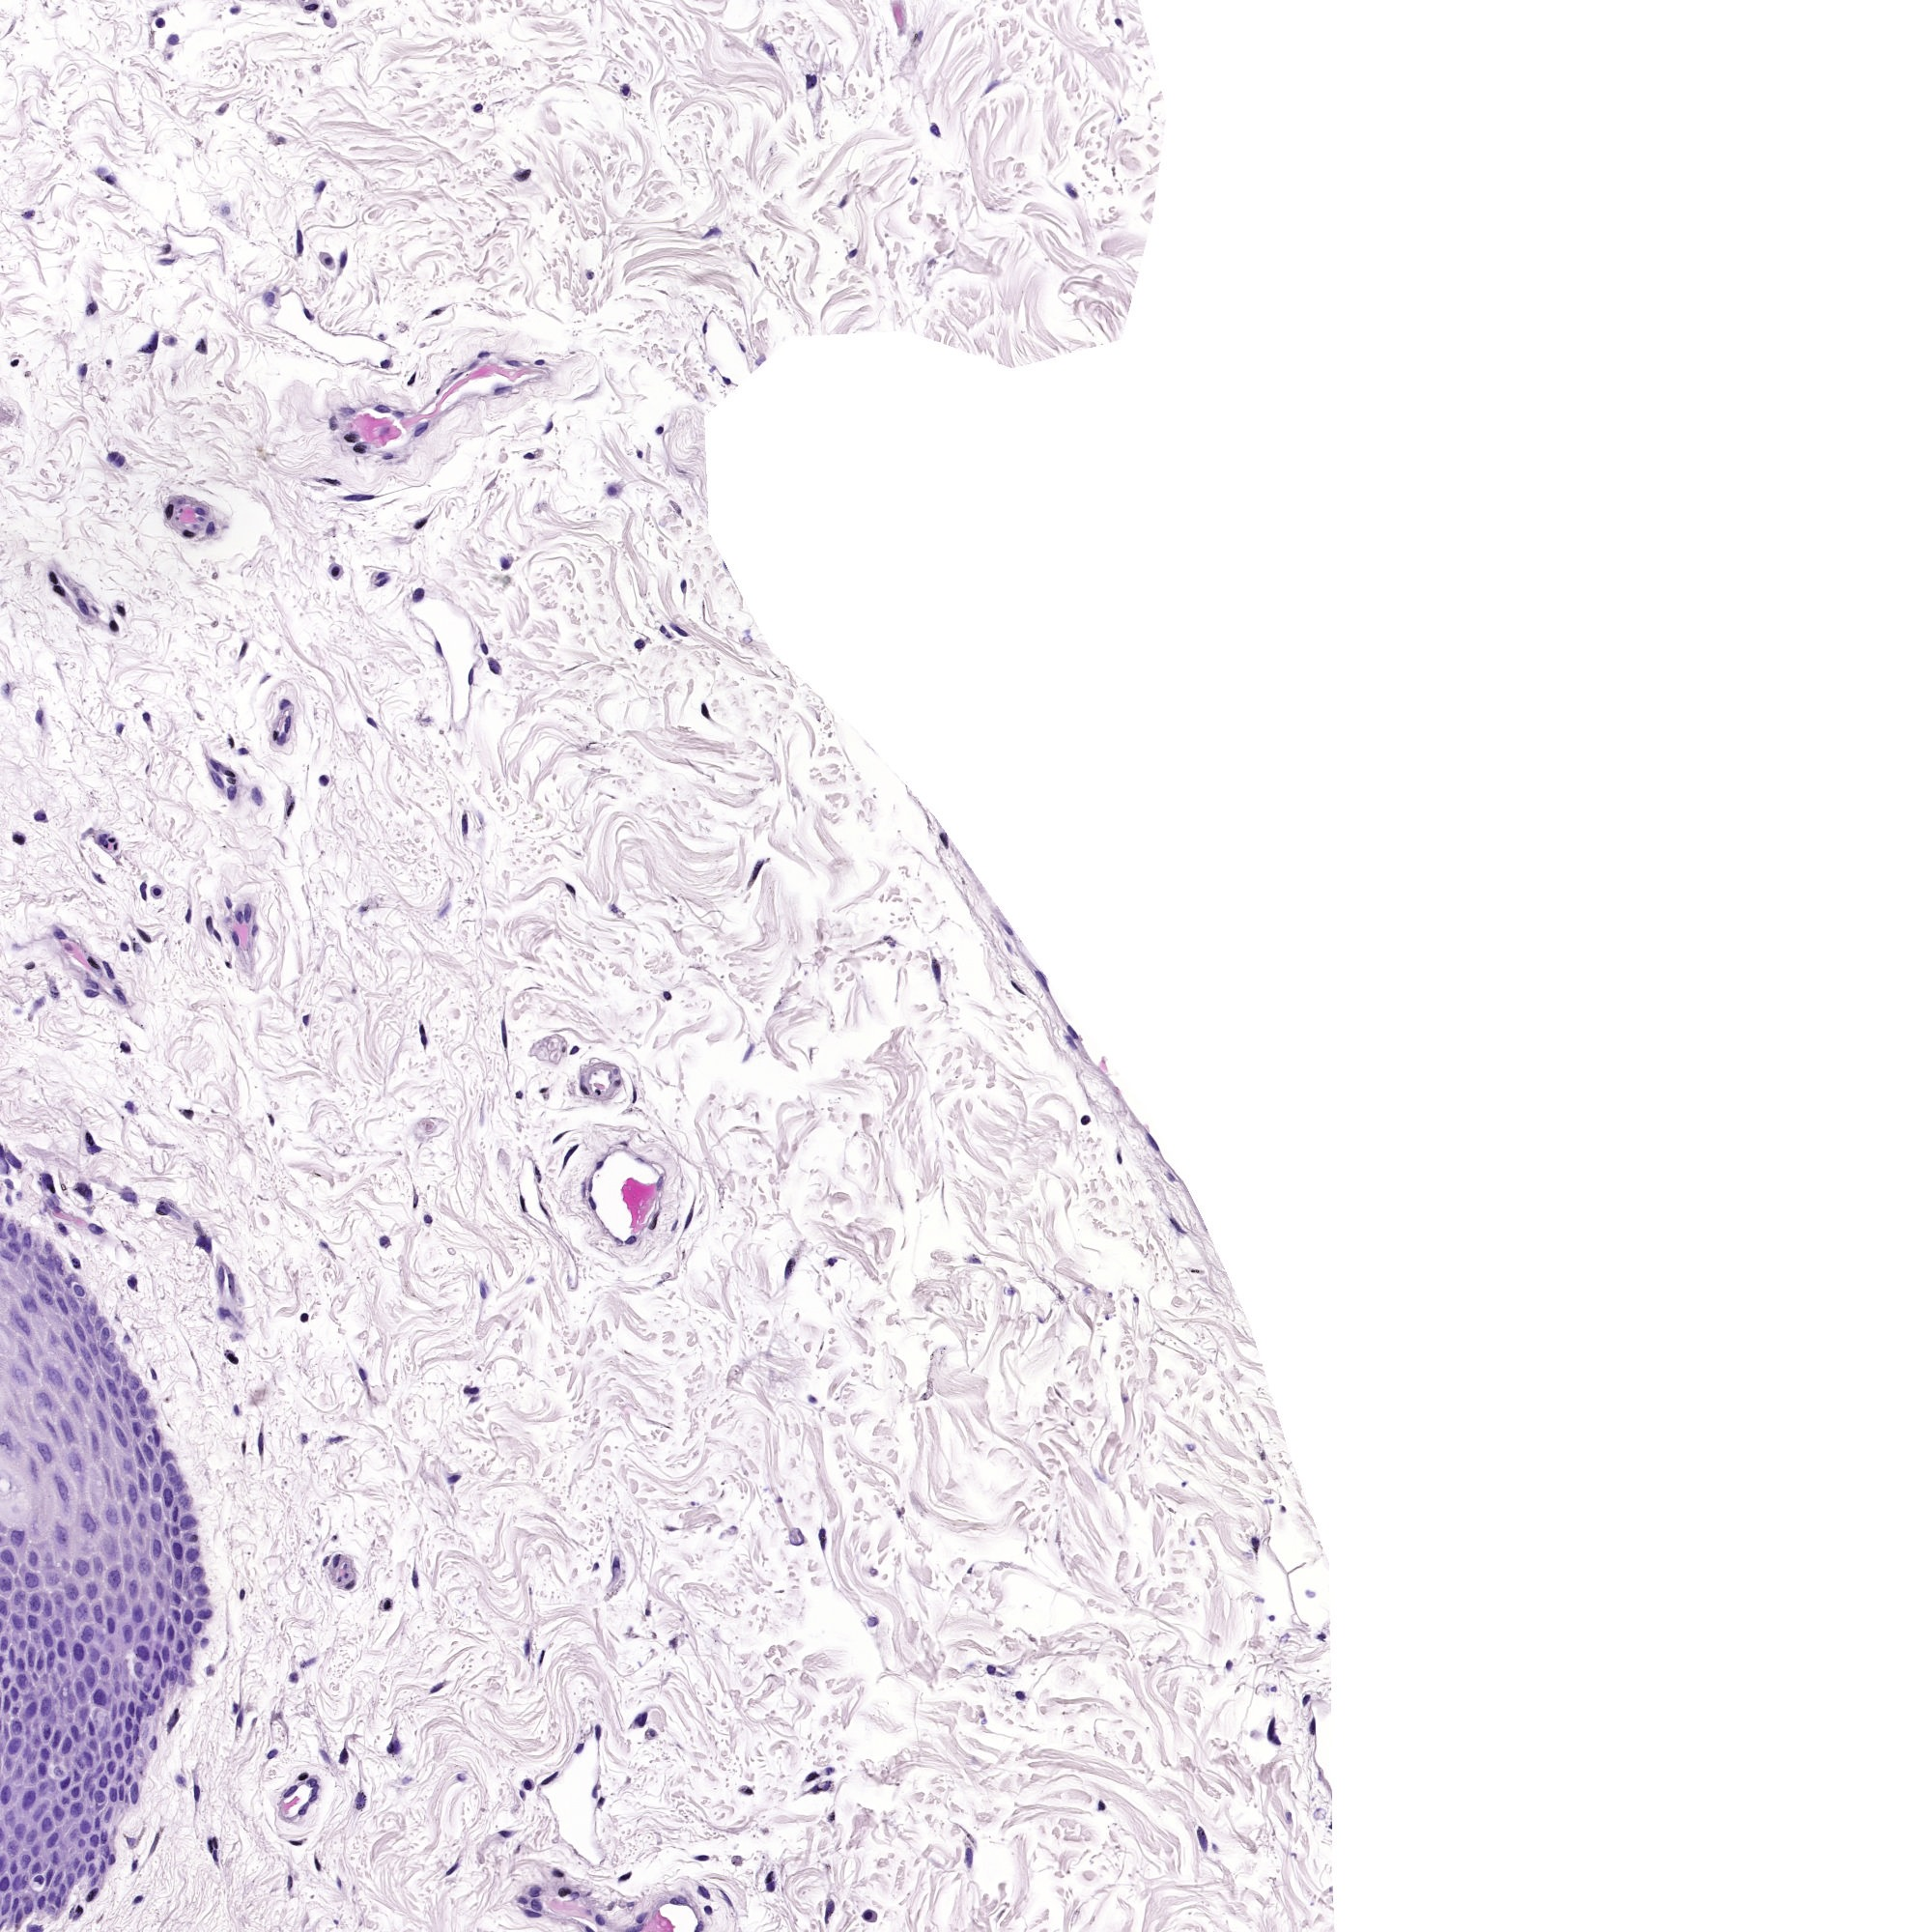epithelial: (186, 1520, 193, 1525), (175, 1548, 180, 1555), (120, 1433, 124, 1442), (18, 1373, 23, 1378), (85, 1522, 90, 1527), (4, 1582, 9, 1587), (97, 1792, 101, 1799), (11, 1230, 14, 1235), (104, 1332, 108, 1338), (108, 1352, 111, 1357), (200, 1589, 205, 1592), (156, 1656, 159, 1661), (5, 1254, 9, 1258), (44, 1297, 48, 1300), (28, 1304, 32, 1307), (87, 1352, 88, 1359), (92, 1348, 96, 1352), (110, 1387, 113, 1391), (80, 1384, 81, 1391), (55, 1378, 58, 1382), (67, 1426, 69, 1433), (101, 1419, 104, 1422), (147, 1451, 150, 1454), (73, 1461, 76, 1465), (16, 1537, 19, 1541), (81, 1566, 85, 1569), (30, 1580, 34, 1583), (111, 1578, 115, 1582), (48, 1635, 50, 1642), (19, 1663, 23, 1667), (78, 1647, 80, 1654), (88, 1675, 92, 1679), (81, 1690, 83, 1697), (119, 1748, 120, 1755), (44, 1279, 46, 1284), (73, 1302, 74, 1307), (44, 1398, 46, 1403), (136, 1426, 138, 1431), (157, 1437, 159, 1442), (140, 1458, 142, 1463), (62, 1488, 64, 1493), (142, 1481, 143, 1486), (111, 1514, 113, 1520), (156, 1511, 157, 1516), (142, 1518, 143, 1523), (60, 1532, 62, 1537), (50, 1578, 55, 1580), (71, 1589, 73, 1594), (81, 1608, 83, 1614), (127, 1631, 129, 1637), (170, 1631, 172, 1637), (41, 1900, 42, 1905), (69, 1877, 71, 1882), (113, 1794, 115, 1799), (87, 1782, 88, 1787), (48, 1247, 50, 1251), (58, 1263, 60, 1267), (23, 1323, 25, 1327), (117, 1371, 119, 1375), (133, 1380, 134, 1384), (142, 1394, 143, 1398), (44, 1451, 46, 1454), (150, 1412, 152, 1415), (165, 1454, 168, 1456), (170, 1468, 172, 1472), (5, 1555, 7, 1559), (97, 1564, 99, 1568), (34, 1603, 35, 1606), (16, 1621, 18, 1624), (30, 1621, 34, 1622), (60, 1647, 62, 1651), (21, 1679, 23, 1683), (14, 1691, 16, 1695), (14, 1709, 16, 1713), (111, 1624, 113, 1628), (60, 1667, 62, 1670), (131, 1587, 133, 1591), (127, 1560, 131, 1562), (136, 1612, 138, 1615), (191, 1552, 193, 1555), (196, 1573, 198, 1576), (175, 1615, 177, 1619), (142, 1652, 145, 1654), (165, 1652, 166, 1656), (163, 1677, 166, 1679), (142, 1695, 143, 1698), (18, 1914, 19, 1918), (50, 1874, 51, 1877), (57, 1877, 58, 1881), (85, 1826, 87, 1829), (28, 1361, 30, 1362), (4, 1438, 5, 1440), (117, 1412, 119, 1414), (126, 1392, 127, 1394), (168, 1495, 170, 1497), (173, 1530, 175, 1532), (18, 1598, 19, 1599), (90, 1589, 92, 1591), (39, 1663, 41, 1665), (5, 1704, 7, 1706), (97, 1614, 99, 1615), (92, 1654, 94, 1656), (175, 1598, 177, 1599), (203, 1614, 205, 1615), (180, 1645, 182, 1647), (138, 1667, 140, 1668), (156, 1693, 157, 1695), (51, 1897, 53, 1898), (94, 1838, 96, 1840), (92, 1881, 94, 1882)
fibroblast and endothelial: (449, 1477, 458, 1483), (145, 345, 152, 350), (92, 1226, 99, 1231), (499, 389, 508, 393), (932, 127, 938, 133), (142, 932, 147, 938), (377, 407, 384, 410), (166, 508, 170, 515), (439, 648, 442, 655), (568, 1150, 571, 1157), (708, 232, 713, 235), (1069, 189, 1074, 193), (350, 435, 356, 439), (165, 260, 170, 264), (1175, 1224, 1178, 1230), (9, 1817, 14, 1821), (359, 497, 368, 499), (142, 886, 143, 895), (306, 311, 310, 315), (421, 428, 425, 432), (58, 591, 65, 593), (418, 593, 421, 596), (281, 702, 285, 706), (246, 911, 248, 918), (55, 932, 58, 936), (568, 886, 571, 890), (755, 869, 757, 876), (1007, 929, 1010, 932), (90, 1150, 97, 1152), (124, 1194, 131, 1196), (349, 1583, 352, 1587), (701, 1891, 704, 1895), (642, 1914, 646, 1918), (547, 1778, 550, 1782), (313, 1790, 317, 1794), (120, 458, 122, 465), (341, 258, 343, 264), (200, 345, 202, 350), (269, 295, 271, 301), (810, 78, 812, 83), (527, 455, 533, 456), (331, 421, 333, 426), (421, 522, 423, 527), (239, 750, 244, 752), (216, 778, 218, 784), (257, 794, 258, 800), (216, 932, 218, 938), (936, 968, 938, 973), (1040, 973, 1042, 978), (421, 1026, 423, 1031), (50, 1185, 51, 1191), (221, 1274, 223, 1279), (483, 1288, 485, 1293), (1169, 1175, 1171, 1180), (821, 1534, 823, 1539), (414, 1576, 416, 1582), (810, 1776, 816, 1778), (701, 1858, 706, 1859), (830, 1904, 832, 1909), (531, 1891, 536, 1893), (531, 1914, 536, 1916), (303, 1806, 304, 1812), (55, 1737, 57, 1743), (30, 1835, 32, 1840), (152, 1844, 154, 1849), (90, 308, 92, 311), (433, 310, 437, 311), (768, 48, 770, 51), (639, 453, 640, 456), (186, 533, 189, 534), (200, 510, 202, 513), (704, 709, 706, 713), (280, 738, 283, 740), (230, 780, 234, 782), (226, 901, 228, 904), (1070, 1030, 1072, 1033), (584, 1090, 586, 1093), (658, 1182, 660, 1185), (541, 1207, 543, 1210), (186, 1111, 188, 1115), (7, 1198, 9, 1201), (1152, 1139, 1154, 1143), (361, 1373, 363, 1376), (435, 1688, 437, 1691), (991, 1667, 993, 1670), (1306, 1698, 1307, 1702), (768, 1877, 770, 1881), (642, 1716, 644, 1720), (563, 1891, 564, 1895), (674, 1900, 678, 1902), (502, 1831, 506, 1833), (449, 1870, 453, 1872), (343, 1755, 345, 1759), (271, 1753, 272, 1757), (216, 1856, 218, 1859), (518, 177, 522, 179), (46, 1730, 48, 1734), (41, 1767, 44, 1769), (37, 1812, 39, 1815), (14, 1847, 16, 1851), (46, 1824, 50, 1826), (64, 1782, 65, 1785), (50, 1840, 53, 1842), (25, 1859, 28, 1861), (4, 1884, 5, 1888), (92, 1891, 94, 1895), (129, 1757, 131, 1760), (41, 1787, 44, 1789), (133, 1865, 134, 1868), (239, 1718, 241, 1721), (851, 253, 853, 255), (842, 203, 844, 205), (704, 329, 706, 331), (550, 426, 552, 428), (410, 380, 412, 382), (437, 391, 439, 393), (359, 448, 361, 449), (329, 479, 331, 481), (380, 573, 382, 575), (119, 609, 120, 610), (679, 630, 681, 632), (212, 763, 214, 764), (230, 791, 232, 793), (110, 839, 111, 840), (92, 962, 94, 964), (943, 837, 945, 839), (1069, 1040, 1070, 1042), (1016, 987, 1017, 989), (573, 1049, 575, 1051), (616, 1083, 617, 1085), (554, 1138, 556, 1139), (600, 1164, 602, 1166), (591, 1201, 593, 1203), (651, 1224, 653, 1226), (688, 1219, 690, 1221), (522, 1201, 524, 1203), (423, 1039, 425, 1040), (11, 1159, 12, 1161), (9, 1184, 11, 1185), (74, 1260, 76, 1261), (1136, 1299, 1138, 1300), (1100, 1805, 1102, 1806), (770, 1886, 771, 1888), (579, 1748, 580, 1750), (623, 1875, 625, 1877), (602, 1923, 603, 1925), (361, 1799, 363, 1801), (520, 1900, 522, 1902), (536, 1905, 538, 1907), (311, 1782, 313, 1783), (288, 1792, 290, 1794), (295, 1842, 297, 1844), (662, 630, 663, 632), (154, 1373, 156, 1375), (44, 1706, 46, 1707), (14, 1725, 16, 1727), (14, 1744, 16, 1746), (44, 1753, 46, 1755), (5, 1792, 7, 1794), (57, 1812, 58, 1813), (73, 1729, 74, 1730), (131, 1840, 133, 1842), (173, 1718, 175, 1720)
inflammatory: (18, 839, 23, 842), (230, 1357, 235, 1361), (651, 1732, 655, 1737), (382, 363, 386, 366), (426, 1215, 428, 1223), (310, 5, 315, 7), (88, 1136, 90, 1141), (80, 1189, 85, 1191), (131, 1279, 133, 1284), (387, 1603, 389, 1608), (527, 1783, 529, 1789), (327, 14, 329, 18), (476, 106, 478, 110), (492, 665, 495, 667), (156, 890, 157, 893), (124, 1047, 126, 1051), (830, 1260, 832, 1263), (1201, 1835, 1203, 1838), (609, 488, 612, 490), (327, 260, 329, 262), (322, 778, 324, 780), (39, 816, 41, 817)
lymphocyte: (78, 1290, 81, 1295), (1085, 1118, 1086, 1123), (124, 945, 126, 948), (304, 1316, 306, 1320), (1017, 1695, 1021, 1697), (708, 1909, 709, 1913), (1116, 21, 1118, 23), (665, 994, 667, 996), (39, 1879, 41, 1881)
